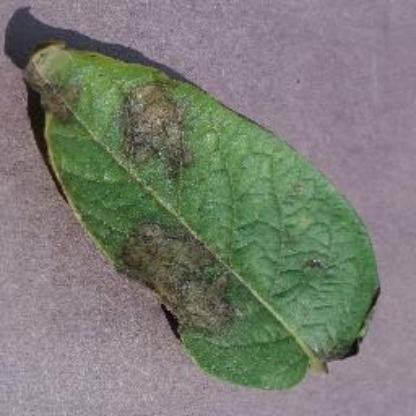Late-Blight: (16, 33, 392, 398)
